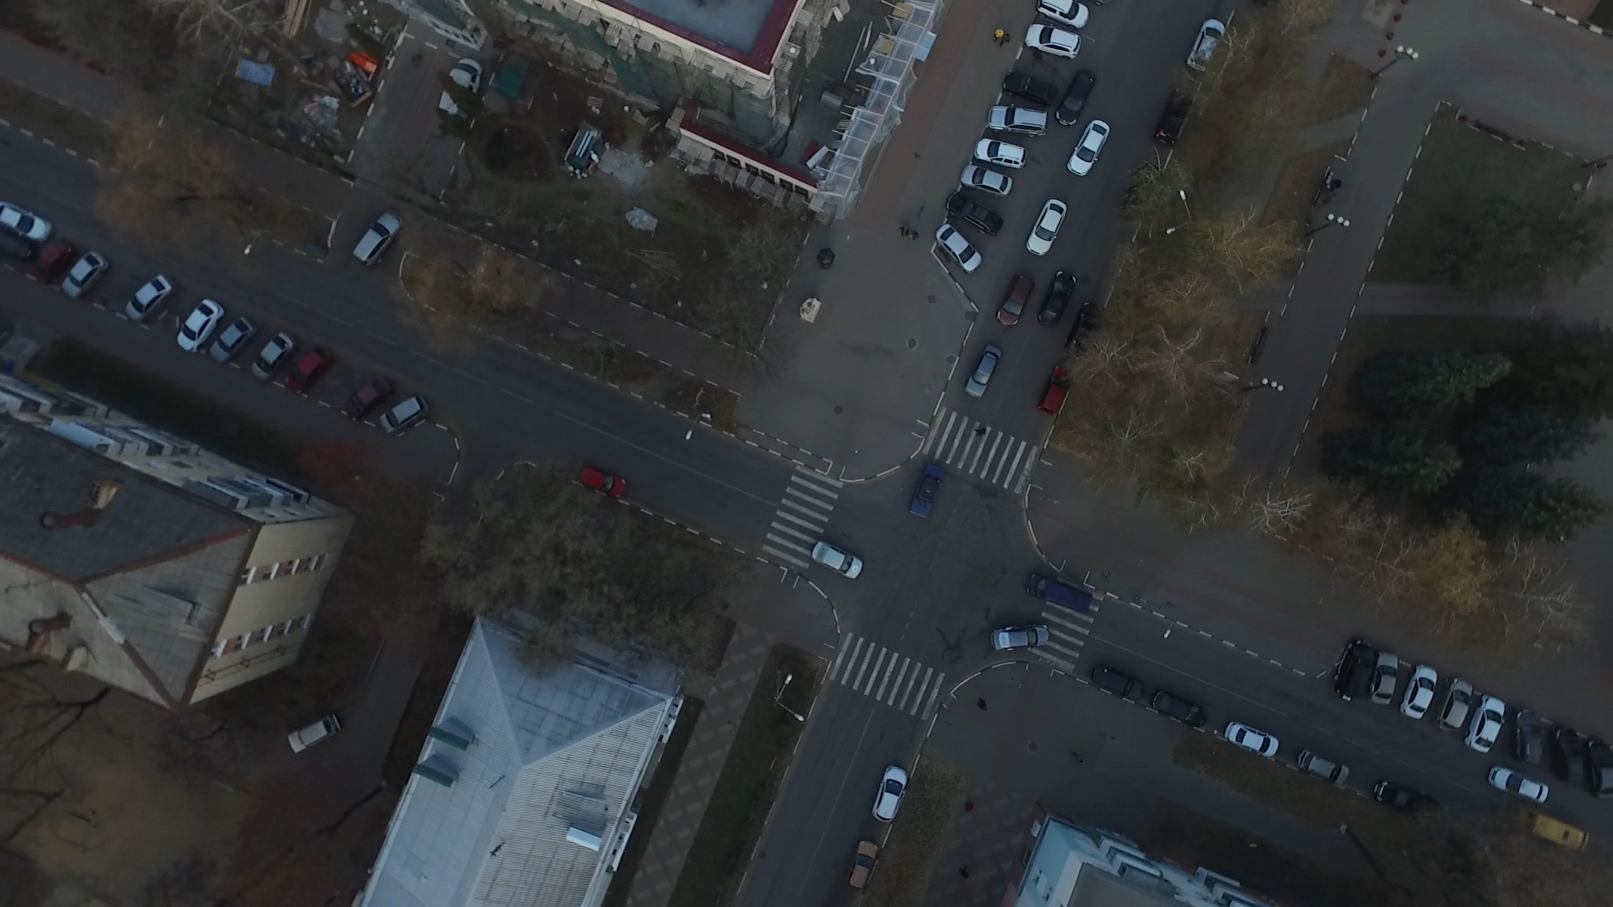car: (427, 56, 486, 118), (348, 213, 409, 268), (1029, 568, 1096, 617), (1370, 781, 1439, 826), (1513, 810, 1586, 851), (1336, 641, 1385, 699), (1064, 120, 1112, 177), (870, 763, 913, 827), (947, 190, 1001, 241), (1465, 693, 1510, 751), (1036, 269, 1078, 331), (127, 272, 178, 323), (1487, 764, 1547, 807), (1024, 196, 1066, 255), (61, 249, 110, 299), (934, 221, 979, 275), (345, 377, 398, 422), (1155, 87, 1194, 150), (177, 297, 224, 348), (1222, 720, 1280, 761), (1056, 69, 1097, 126), (960, 343, 1005, 396), (902, 466, 946, 517), (210, 316, 255, 367), (1150, 689, 1208, 728), (575, 461, 626, 504), (811, 542, 863, 584), (253, 328, 295, 380), (1401, 664, 1442, 718), (1299, 750, 1354, 790), (378, 395, 432, 434), (288, 344, 330, 394), (1064, 301, 1105, 352), (1371, 649, 1407, 708), (286, 715, 342, 752), (960, 163, 1011, 203), (1039, 364, 1077, 418), (1442, 678, 1479, 732), (986, 618, 1047, 650), (846, 842, 886, 890), (994, 277, 1034, 326), (1091, 664, 1148, 699), (1026, 24, 1080, 60), (1516, 710, 1544, 775), (1189, 18, 1222, 74), (31, 240, 74, 284), (1000, 71, 1058, 103), (986, 104, 1042, 134), (1, 207, 51, 240), (1553, 726, 1581, 786), (1588, 735, 1613, 798), (972, 138, 1026, 167), (1032, 1, 1087, 29)
